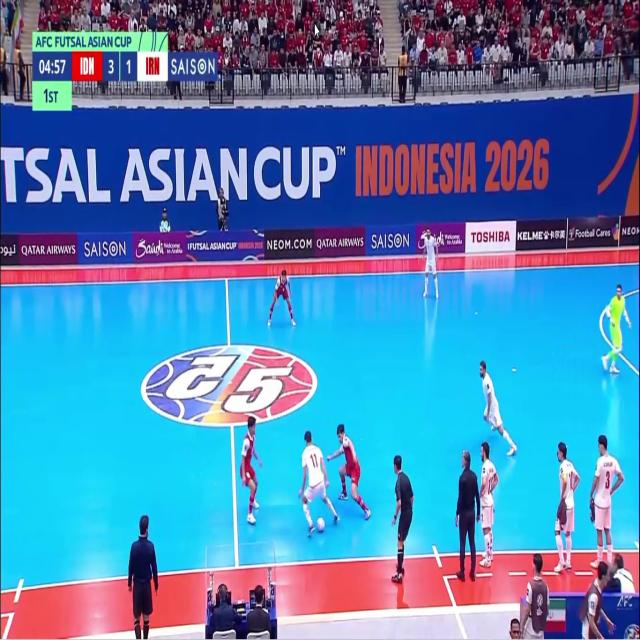keeper: (601, 285, 631, 373)
official: (456, 450, 480, 581)
players: (591, 435, 624, 568), (299, 431, 338, 535), (328, 425, 370, 519), (480, 361, 516, 455), (555, 442, 580, 572), (602, 285, 631, 374), (241, 416, 262, 524), (480, 442, 498, 567), (268, 270, 295, 326), (422, 229, 439, 299)
referee: (128, 515, 158, 639), (392, 455, 413, 584)
